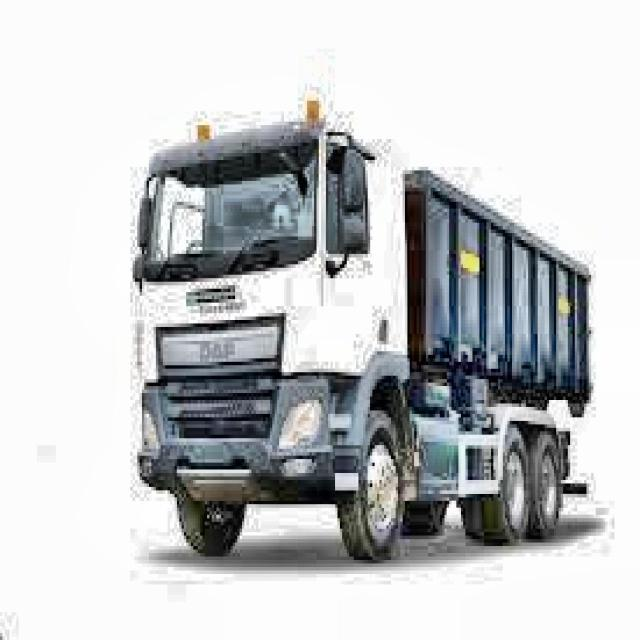dump_truck: (125, 106, 594, 564)
